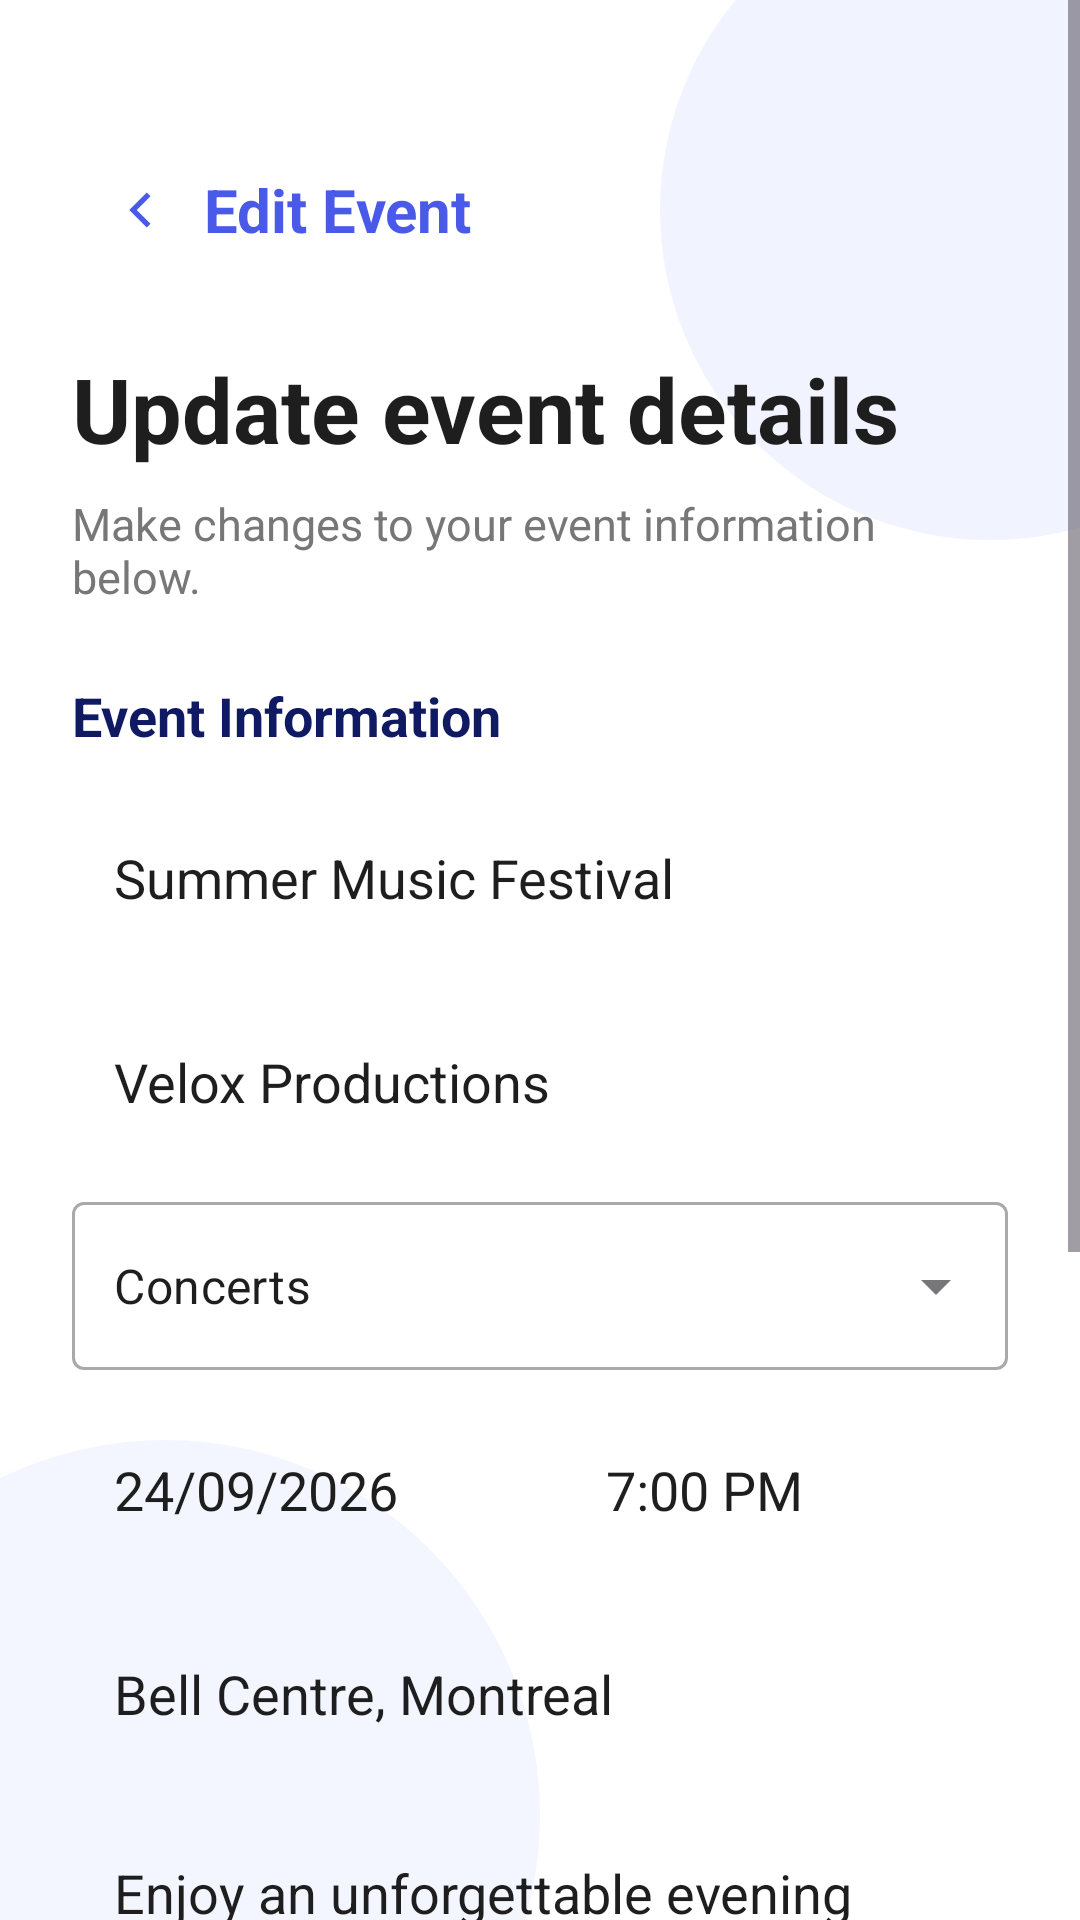

Where icons sit on this 1080px x 1920px app screen, as (x1, y1, x2, y2):
Back: (129, 192, 151, 228)
